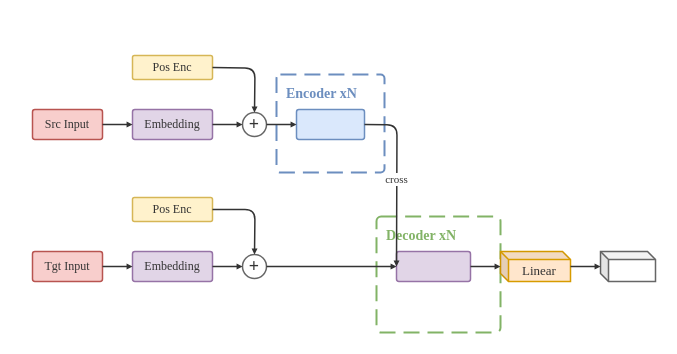
Image size: 677x354. Some labels were removed from this diagram. Each missing label, with the centre of its shape:
"Decoder" belongs at (x=433, y=266).
"Encoder" belongs at (x=330, y=124).
"Softmax" belongs at (x=627, y=266).
